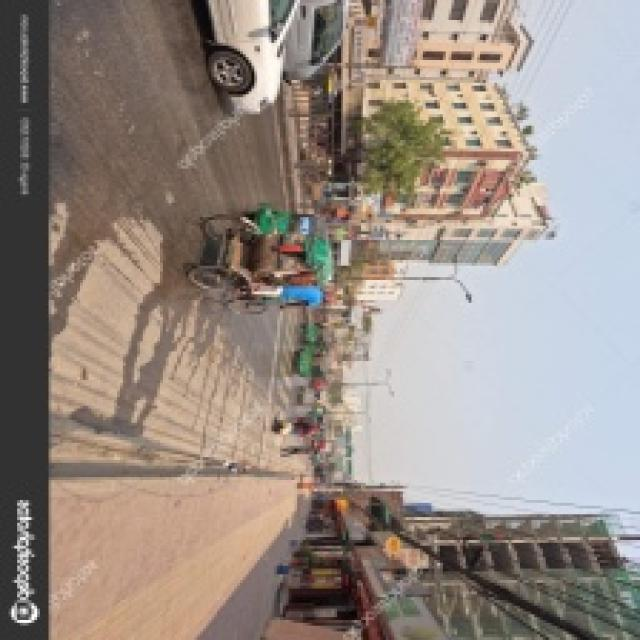car: (201, 6, 316, 116)
rickshaw: (189, 204, 339, 320)
